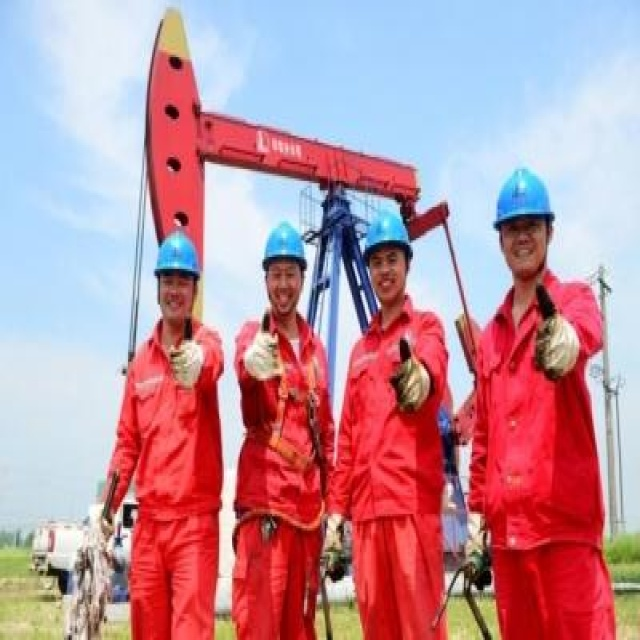safety_helmet: (493, 166, 554, 229), (362, 212, 413, 262), (153, 228, 201, 278), (262, 221, 307, 270)
